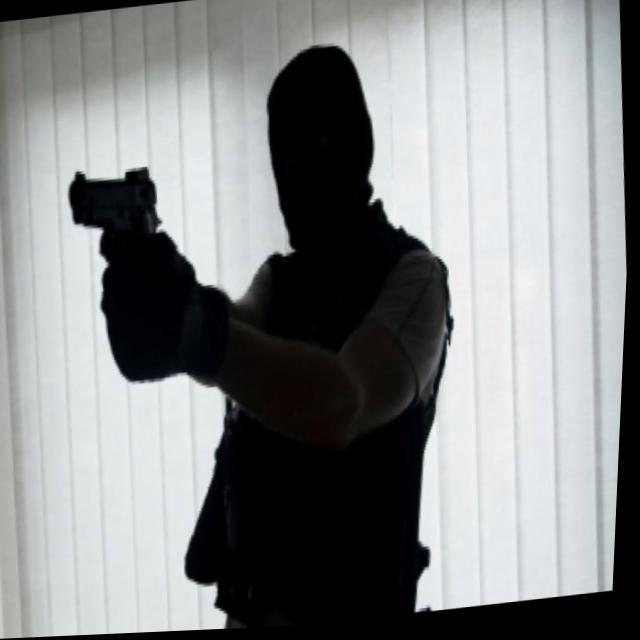weapon: (63, 156, 184, 296)
